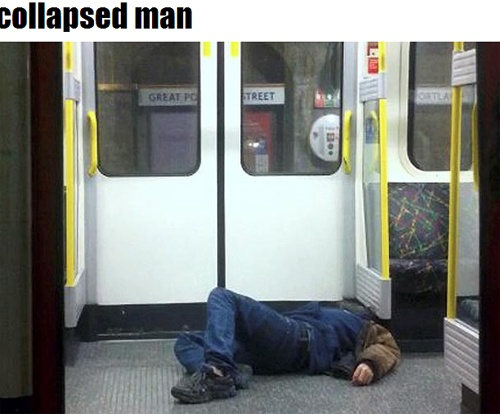falling: (160, 282, 408, 403)
